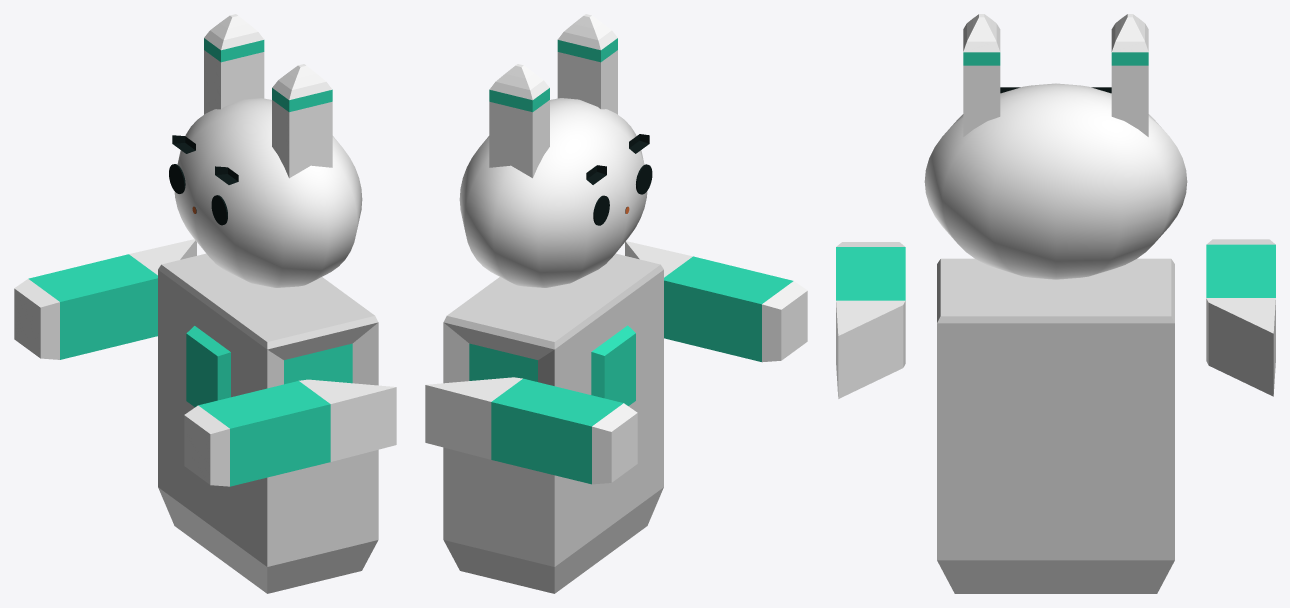
File: robotNew.fbx
3 views of the same model, side by side, from view 1: azimuth 30°, elevation 25°; view 2: azimuth 150°, elevation 25°; view 3: azimuth 270°, elevation 25° (orthographic). The views are drawn at different scales.
Parts seen in each view (by area): view 1: Cube; view 2: Cube; view 3: Cube.
Boxes of the visible parts, box(x1,y1,x2,y2) form: Cube: box(14, 14, 396, 593); Cube: box(425, 14, 807, 593); Cube: box(836, 14, 1275, 593).
Bounding box in the file's own units: 762 × 1610 × 1160.
